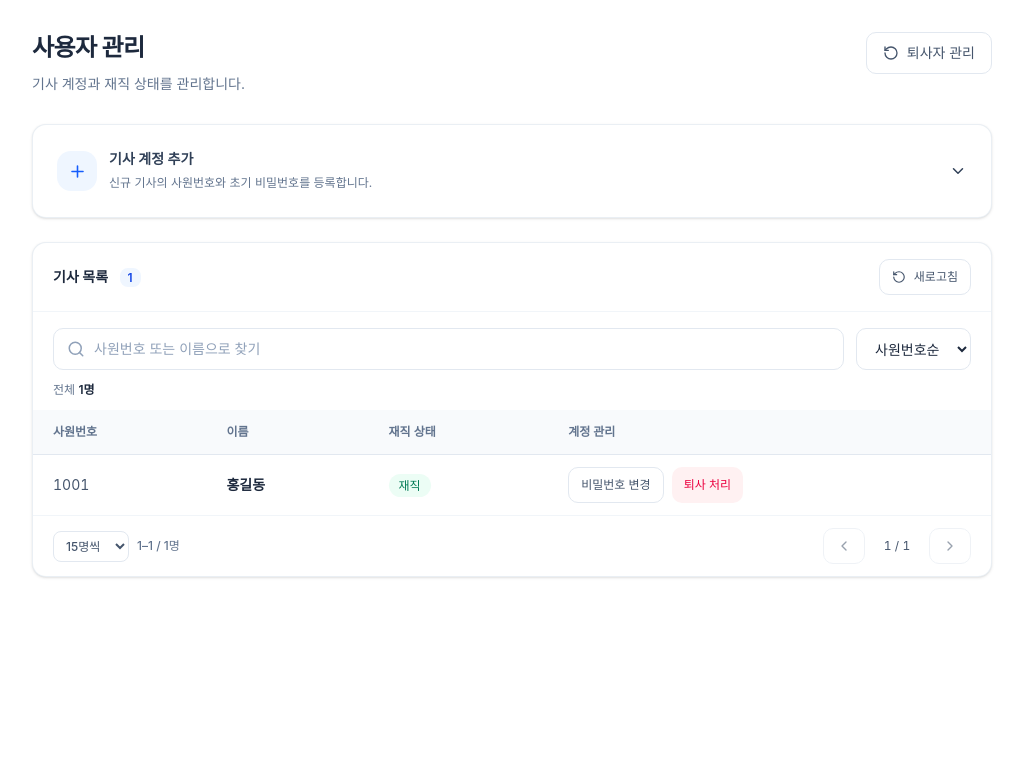
it: requires matching password confirmation and displays API failures inside the modal
The width and height of the screenshot is (1024, 768).
Click the button "비밀번호 변경" at {"x": 616, "y": 485}, box [568,467,664,503]
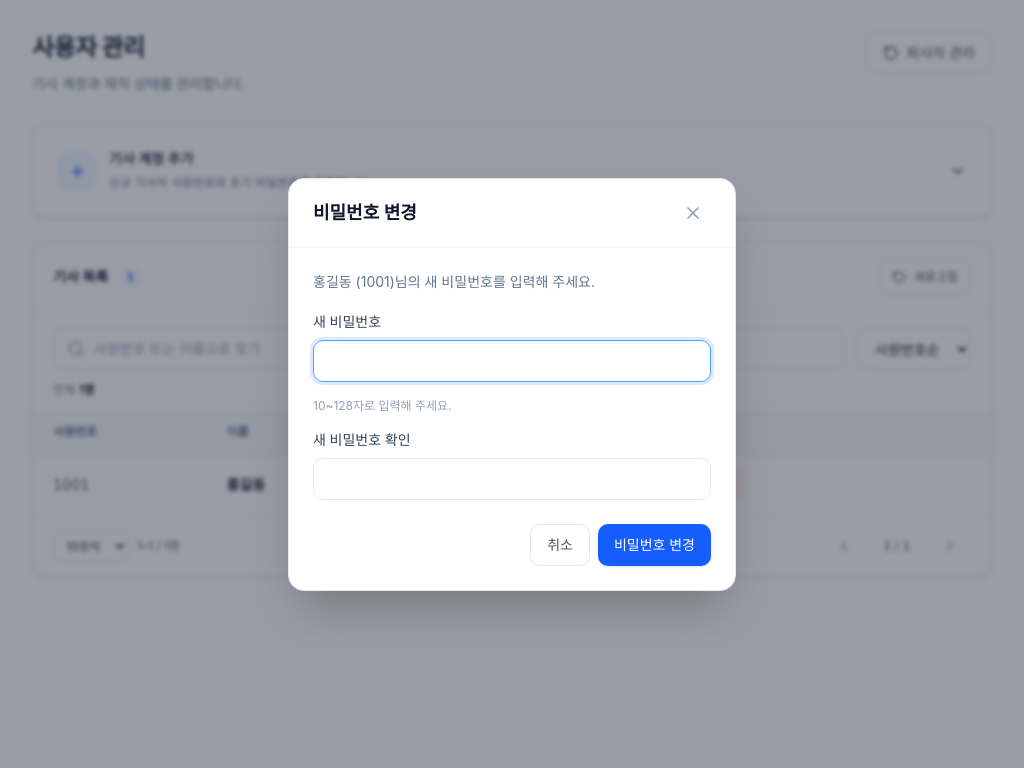
Type "long-password" into the password field labelled "새 비밀번호" at {"x": 512, "y": 360}, box [313,340,711,382]
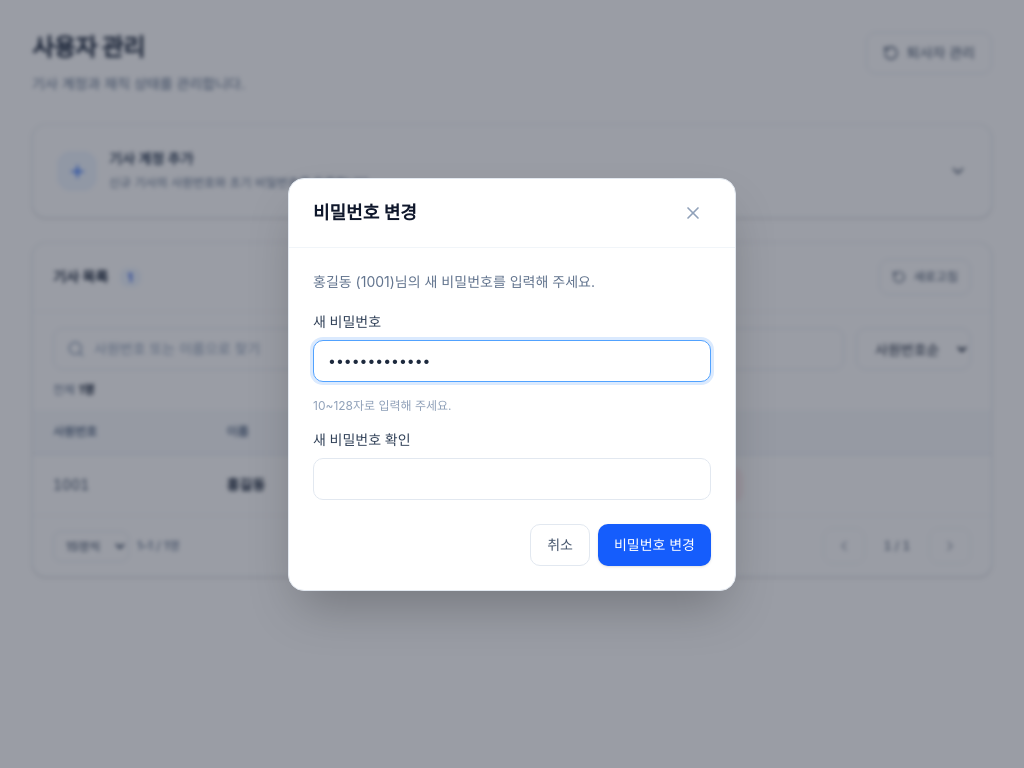
Type "different-password" into the password field labelled "새 비밀번호 확인" at {"x": 512, "y": 478}, box [313,458,711,500]
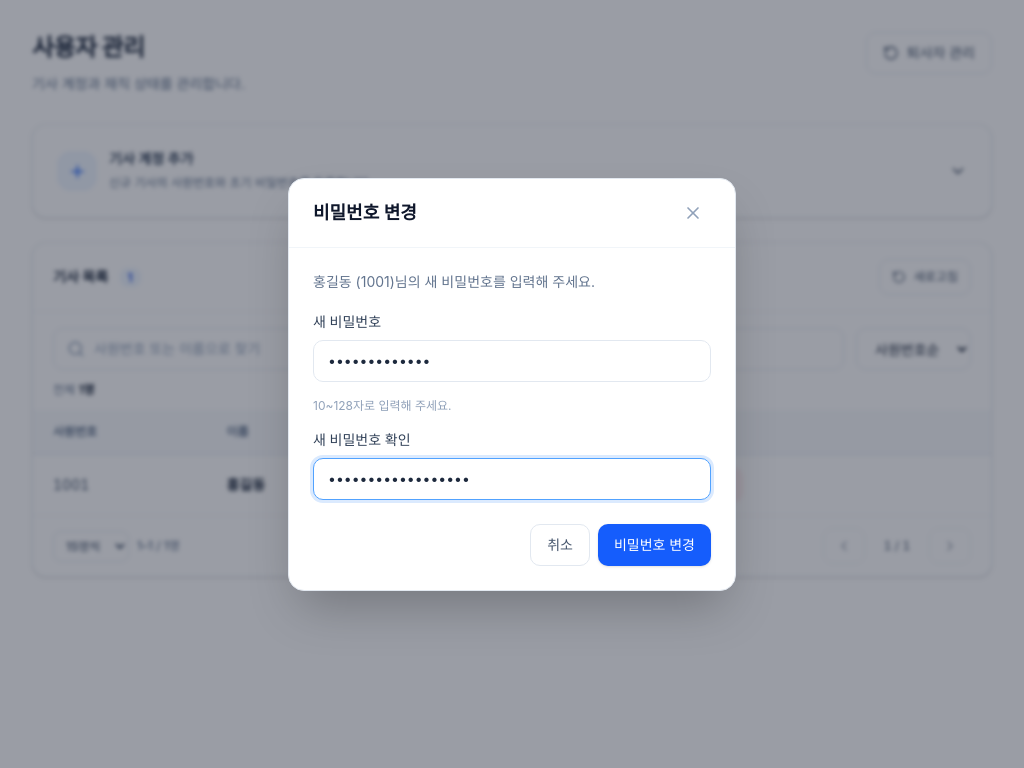
Click the button "비밀번호 변경" at {"x": 654, "y": 544}, box [598,524,711,566]
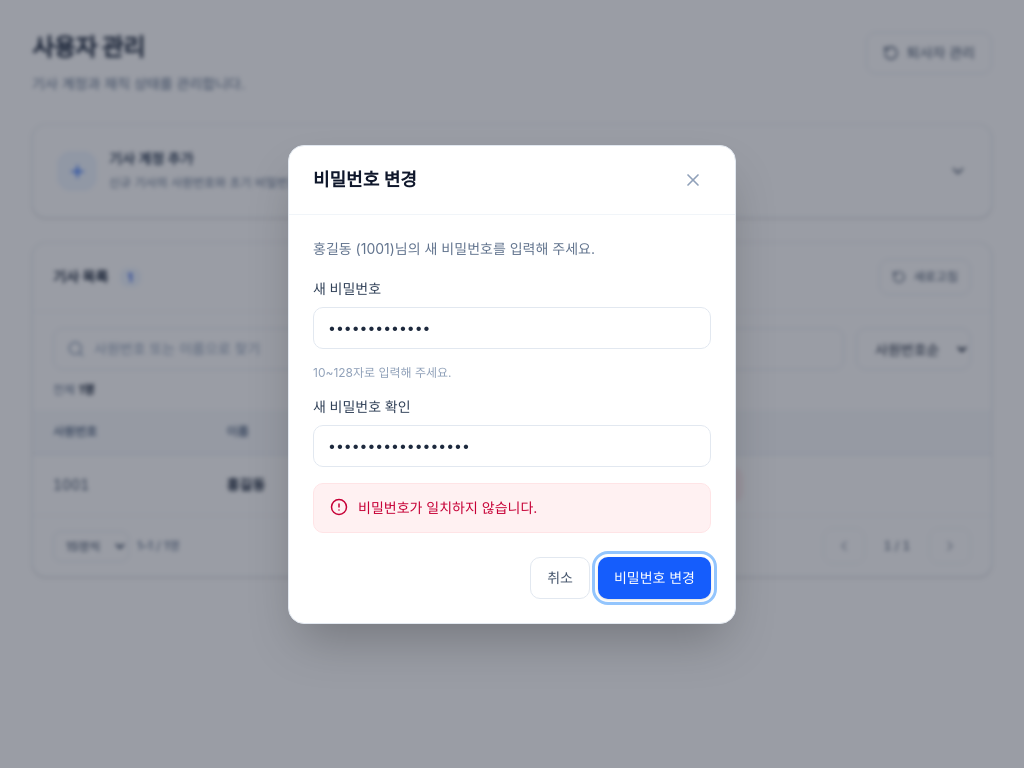
Expected: the message shows "일치하지 않습니다", [358,498,537,516]
Type "long-password" into the password field labelled "새 비밀번호 확인" at {"x": 512, "y": 446}, box [313,424,711,466]
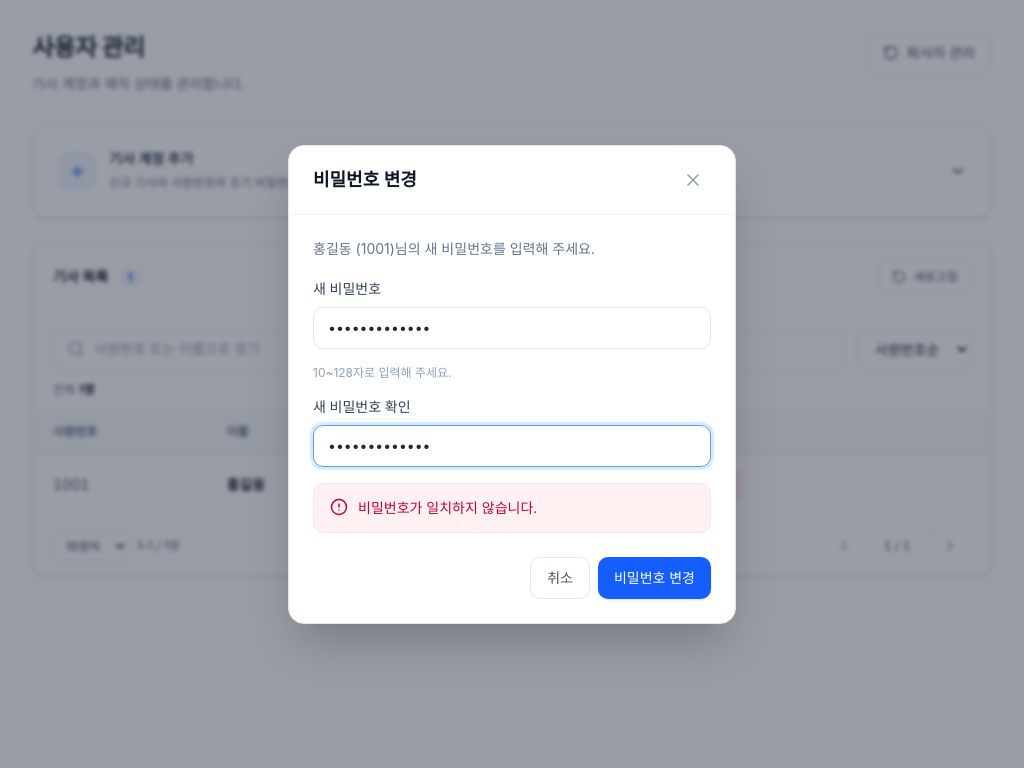
Click the button "비밀번호 변경" at {"x": 654, "y": 578}, box [598,556,711,598]
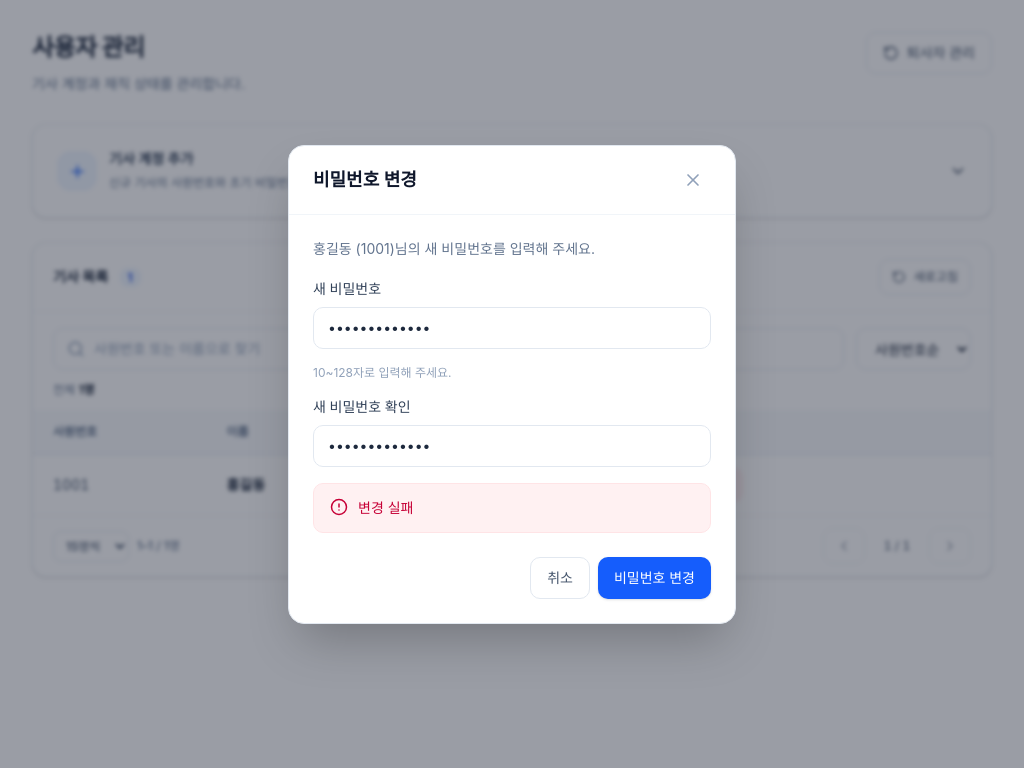
Expected: the dialog shows "변경 실패", [358,498,414,516]
